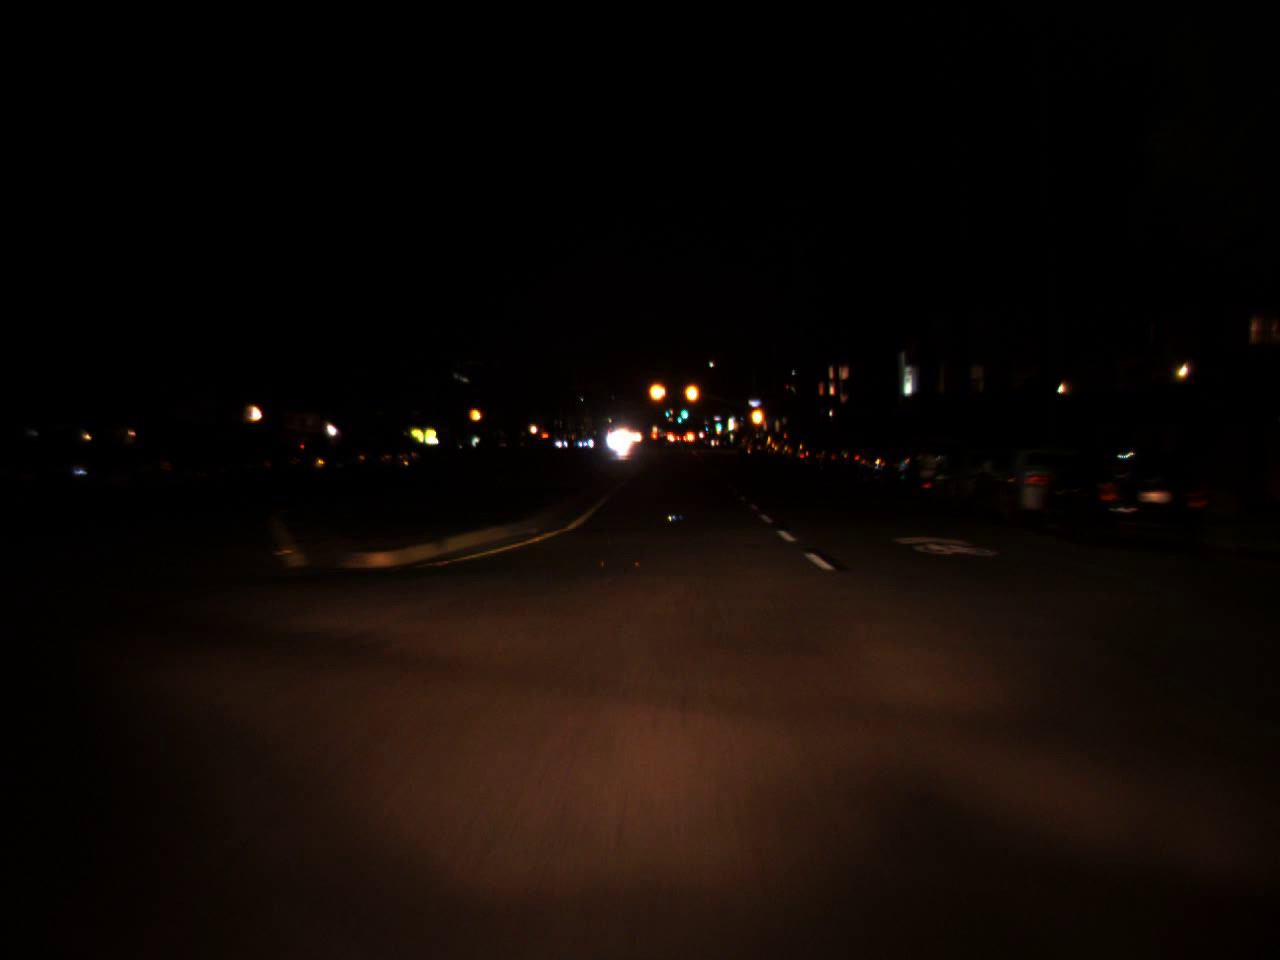go: (678, 396, 687, 423), (675, 410, 682, 425), (715, 417, 722, 429)
warning: (645, 369, 669, 414), (684, 373, 702, 413), (464, 397, 485, 429), (748, 398, 766, 433)
